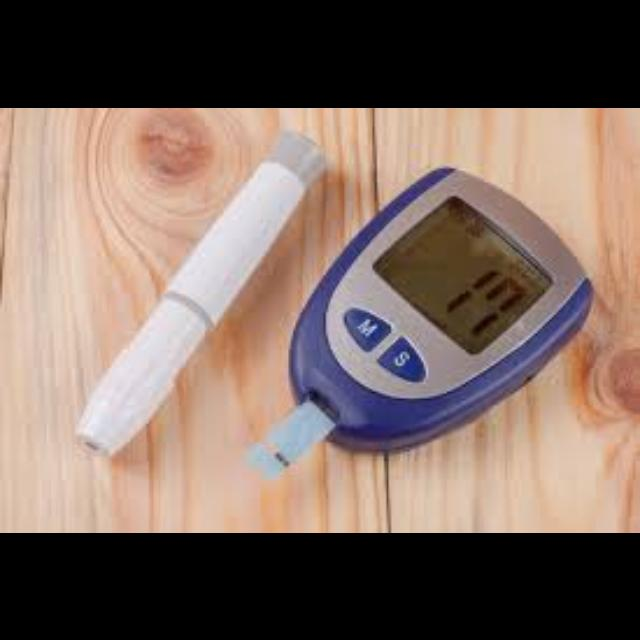Glucose-Meter: (256, 167, 593, 473)
